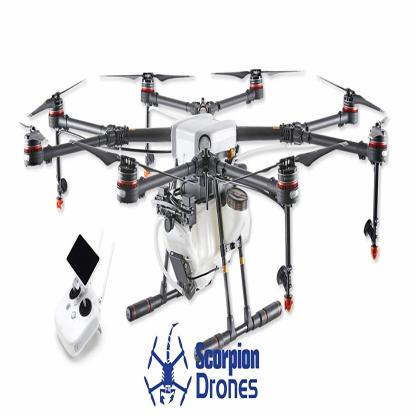drone: (16, 54, 404, 287)
